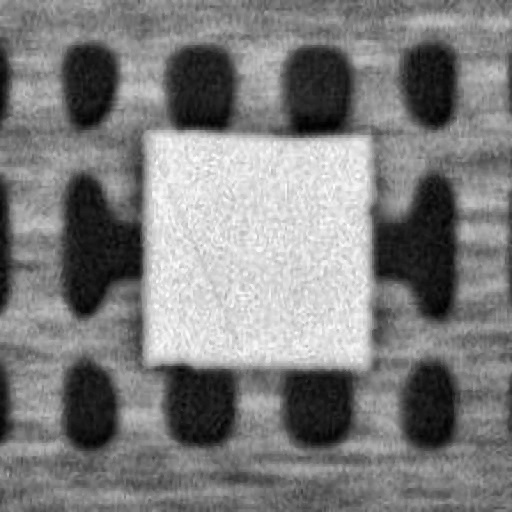DIE_CRACK: (217, 88, 353, 226)
